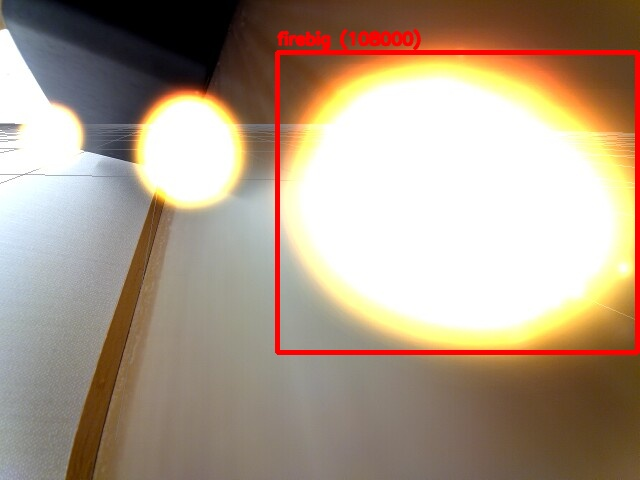firebig: (277, 52, 637, 352)
